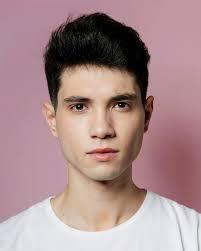Awake: (30, 15, 166, 190)
